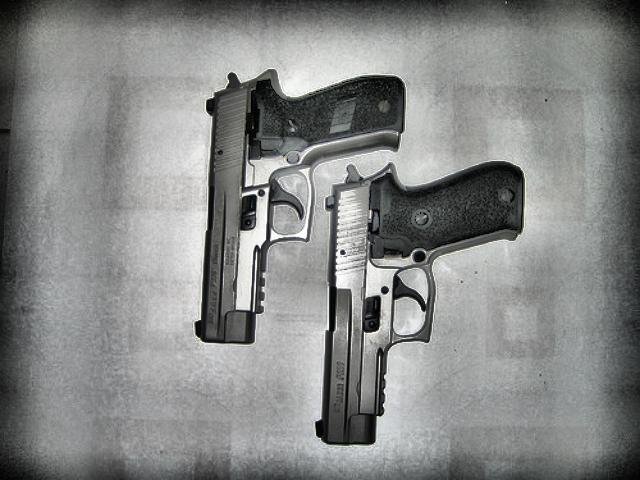pistol: (313, 160, 522, 442), (192, 66, 404, 342)
